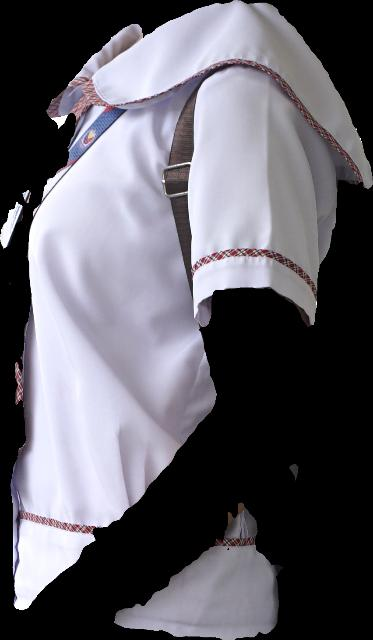pologirl: (11, 0, 372, 610)
